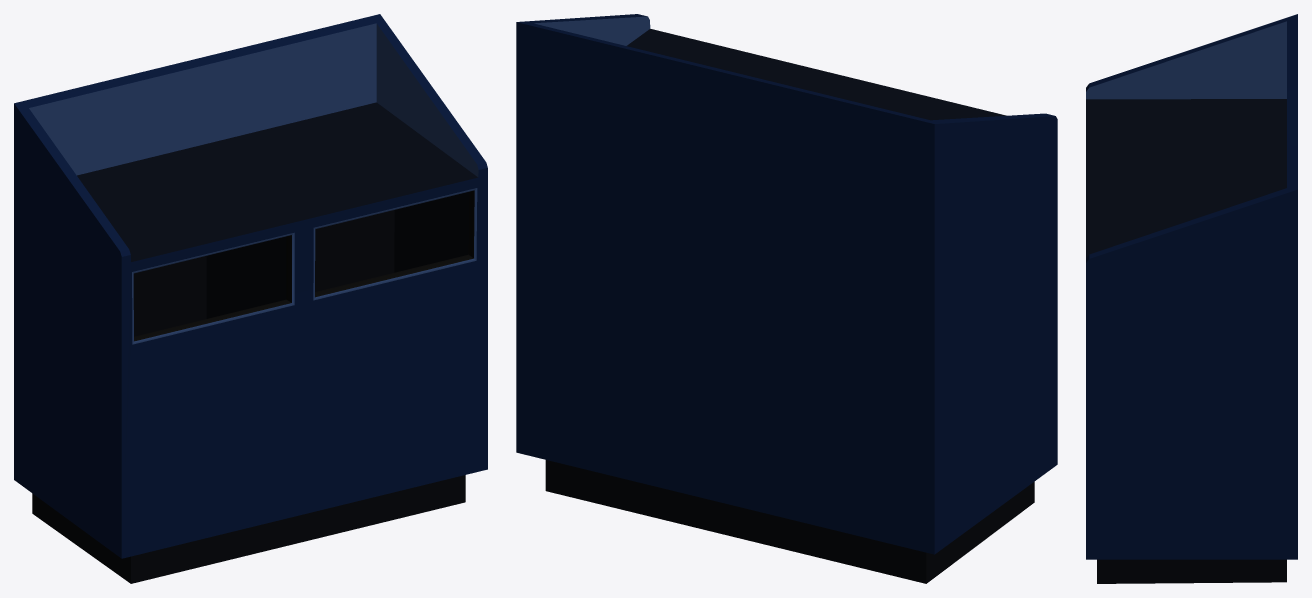
Rendered from Food Court_Bin.fbx.
The picture shows the model from 3 angles, left to right: view 1: azimuth 30°, elevation 25°; view 2: azimuth 150°, elevation 25°; view 3: azimuth 270°, elevation 25°; orthographic projection. The views are drawn at different scales.
Visible parts, largest first — view 1: pCube109; view 2: pCube109; view 3: pCube109.
Part boxes in pixels (box(x1,y1,x2,y2)): pCube109: box(14, 14, 487, 583); pCube109: box(516, 14, 1057, 583); pCube109: box(1086, 14, 1297, 583).
Bounding box in the file's own units: 3.2 × 3.42 × 1.63.
